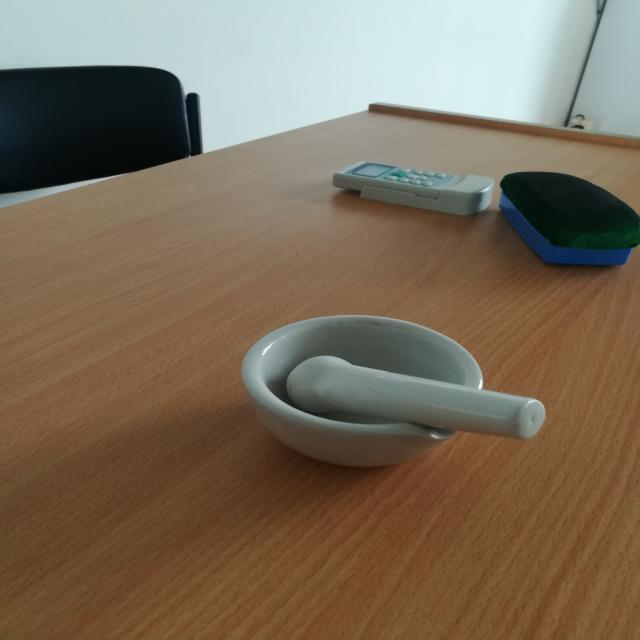Porcelain_Mortar Pestle: (215, 288, 566, 512)
